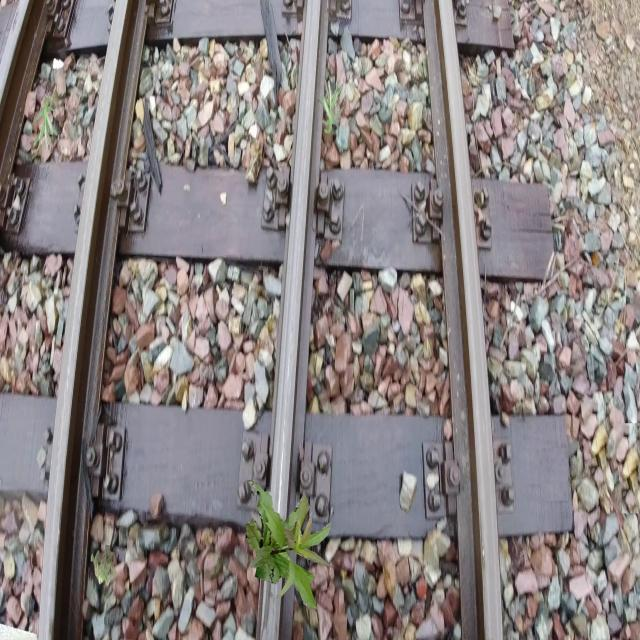Plant: (246, 480, 334, 610), (32, 97, 59, 154), (318, 78, 344, 134), (91, 545, 117, 588)
